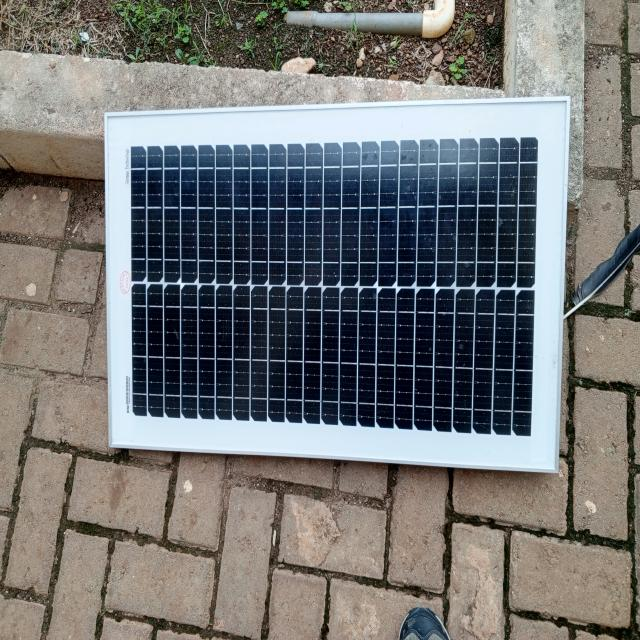Clean: (115, 126, 554, 449)
